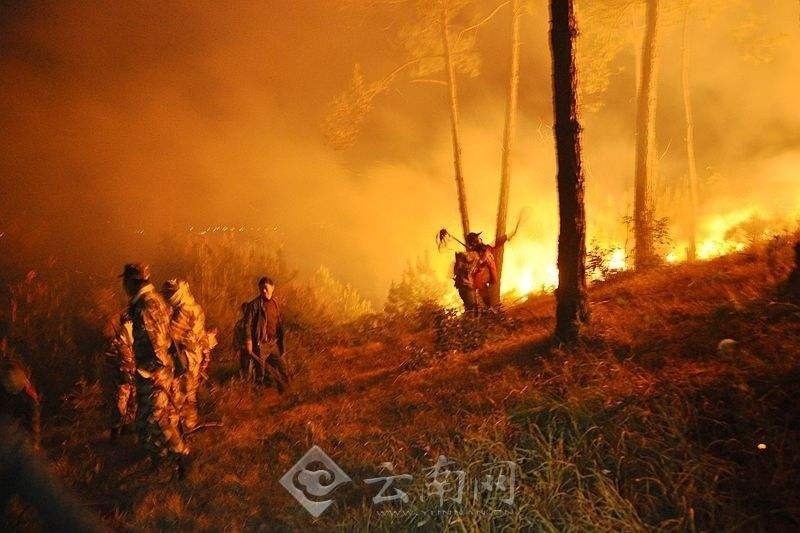fire: (664, 207, 755, 265), (500, 249, 559, 303), (584, 240, 632, 282), (438, 283, 464, 316)
